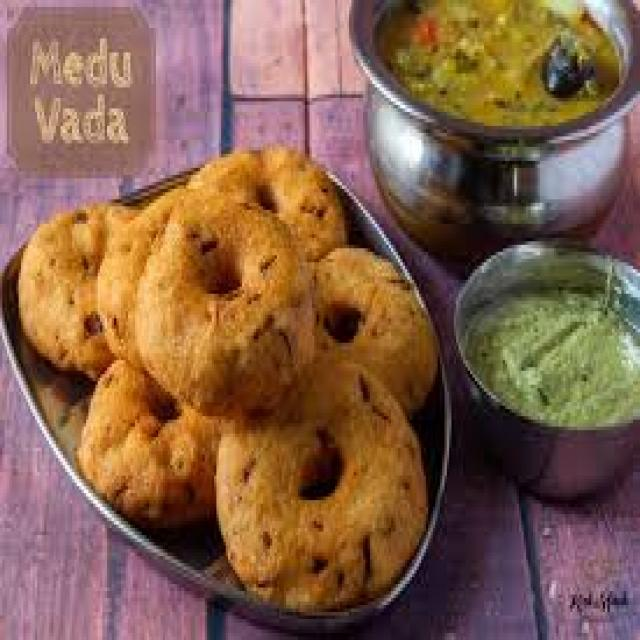MEDU VADA: (216, 360, 426, 609), (102, 182, 303, 399)
